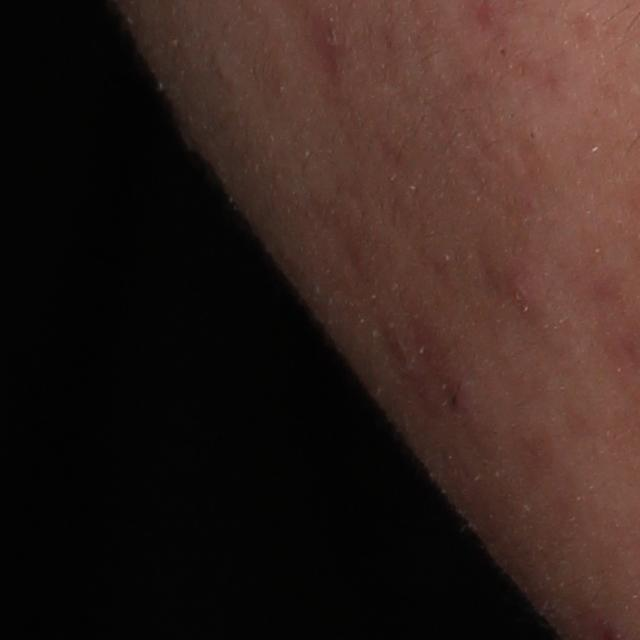papule: (501, 251, 541, 307)
